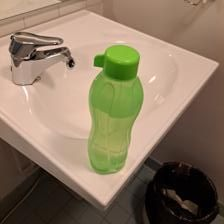bottle: (85, 45, 143, 174)
